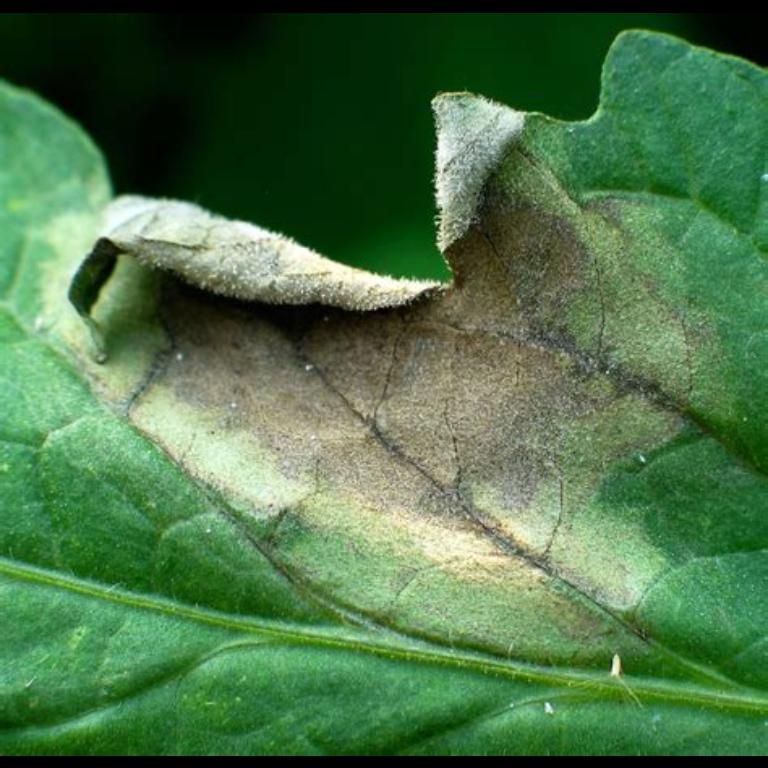blight: (73, 41, 679, 627)
